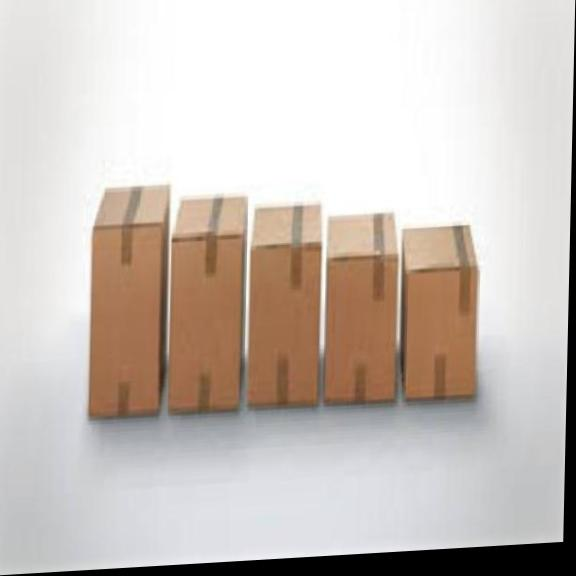Kertas: (88, 177, 171, 421), (167, 188, 245, 413), (247, 201, 321, 409), (322, 213, 400, 407), (398, 221, 477, 403)
